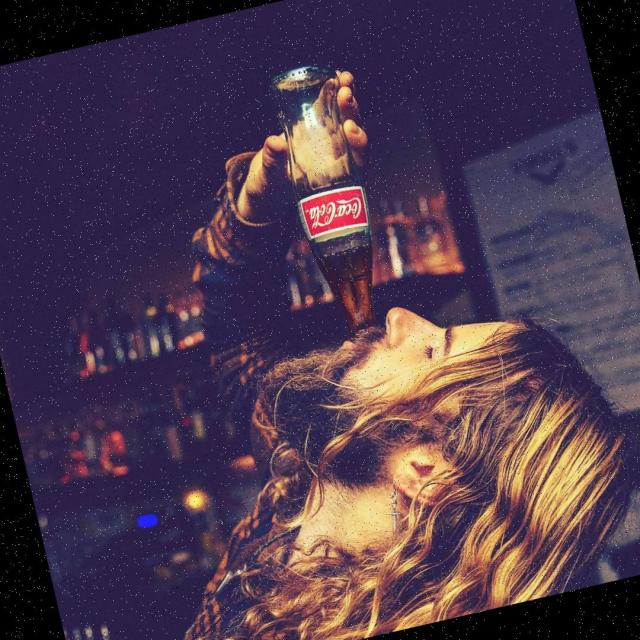coca-cola: (261, 52, 401, 355)
